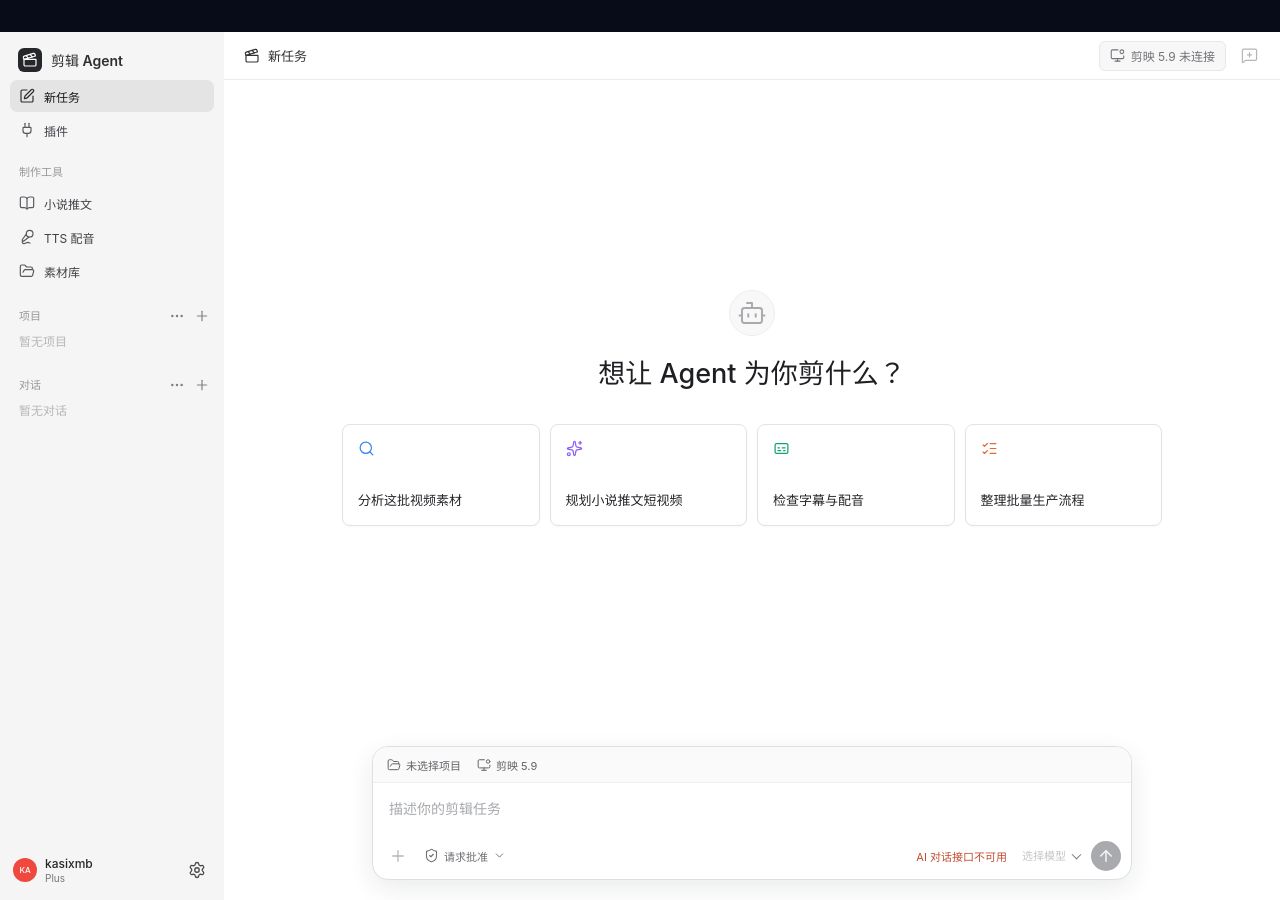
WorkspaceView › opens the shared model settings from the account menu
Click the button named "设置" at x=197, y=870, box [183,856,211,884]
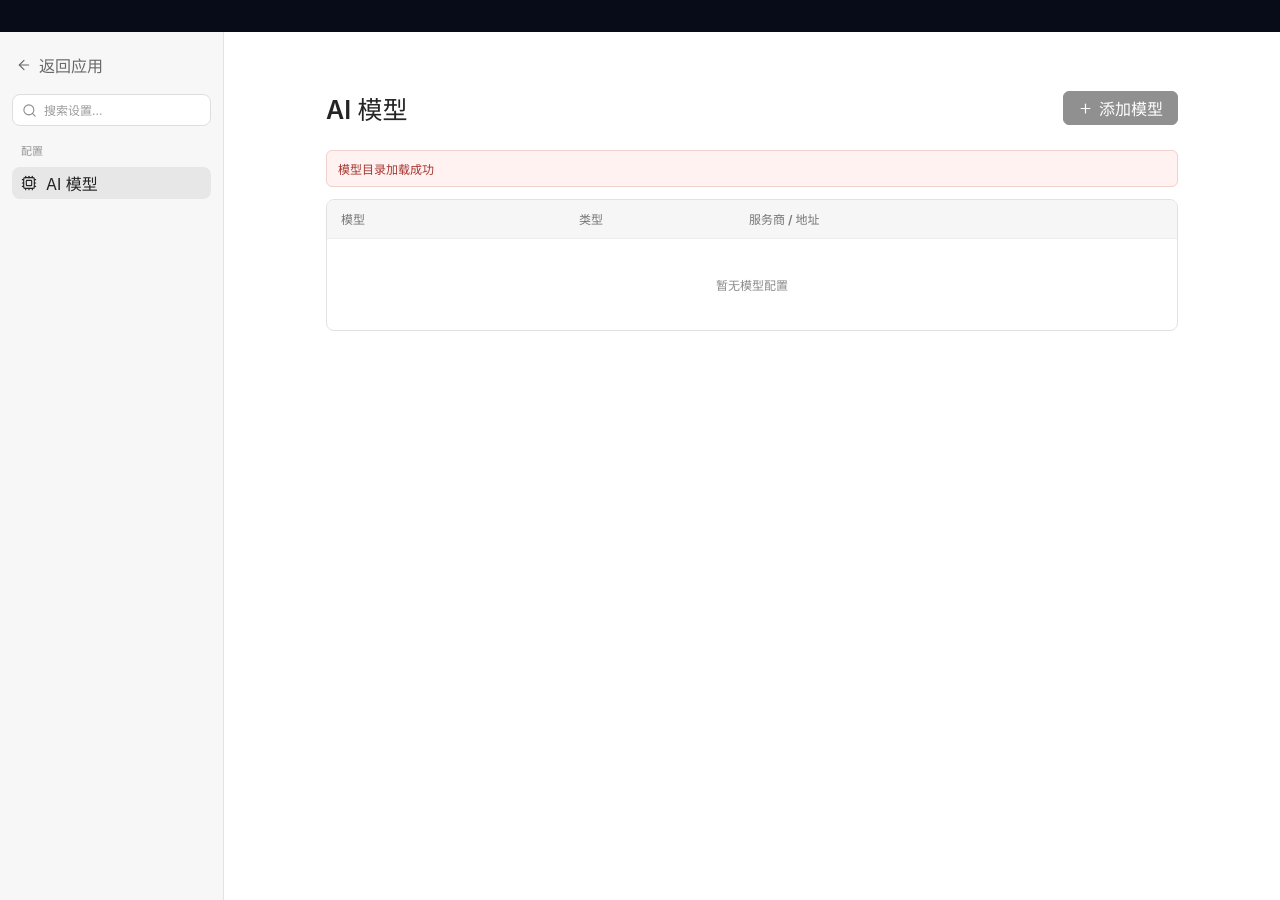
Result: the element named "设置" is shown
Result: the heading "AI 模型" is shown at [326,90,407,126]
